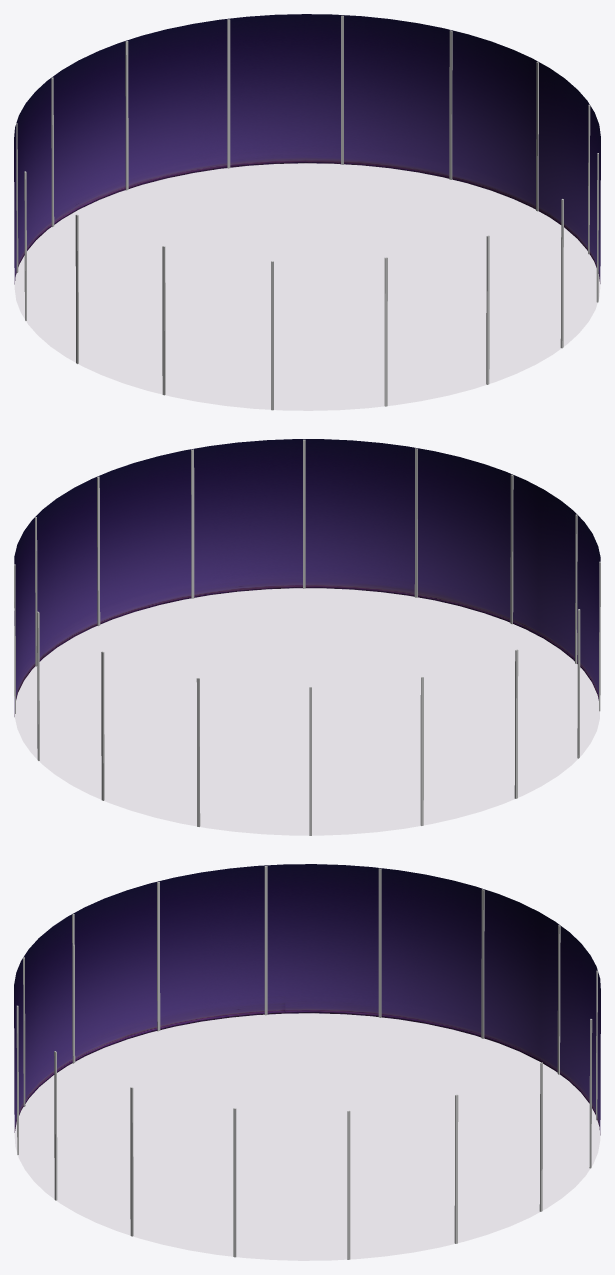
The model's file is Showroom_MH.fbx.
3 renders of one model, top to bottom at view 1: azimuth 30°, elevation 25°; view 2: azimuth 150°, elevation 25°; view 3: azimuth 270°, elevation 25°, orthographic.
Parts seen in each view (by area): view 1: Garare; view 2: Garare; view 3: Garare.
Boxes of the visible parts, <box> form: Garare: <box>14,14,600,410</box>; Garare: <box>14,439,600,835</box>; Garare: <box>14,864,600,1260</box>.
Size of the model in its own units: 42 by 11.78 by 42.
